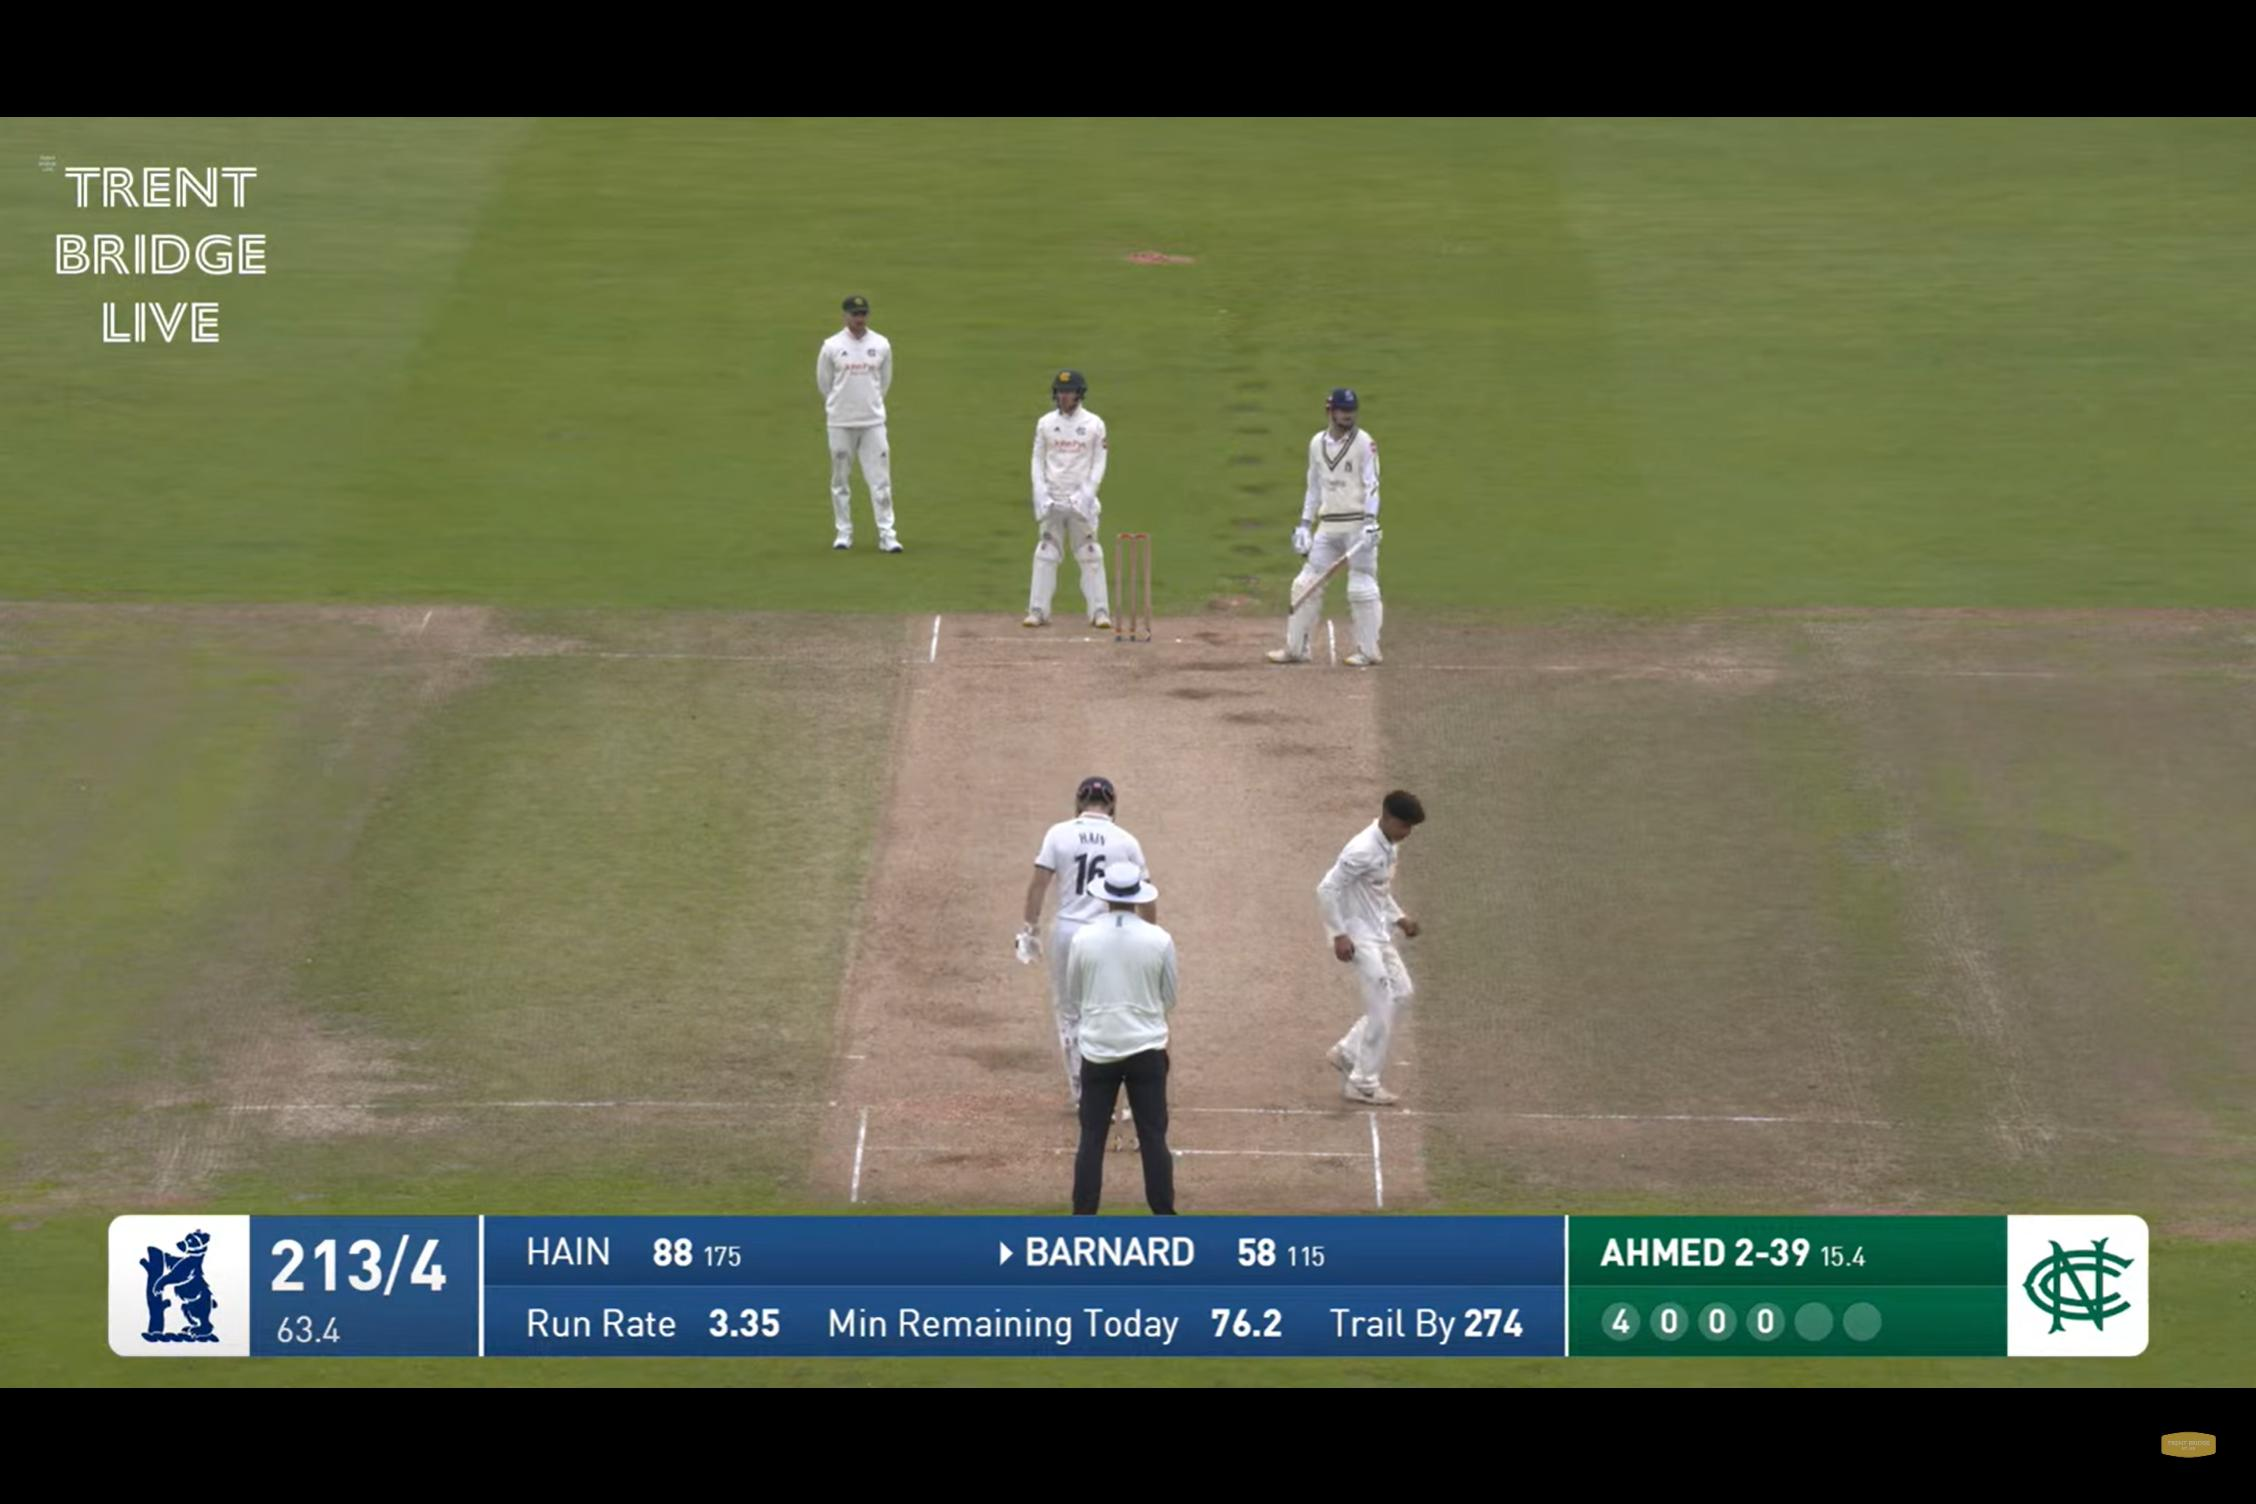batsman: (1272, 373, 1445, 670)
bowler walking back: (1291, 774, 1491, 1121)
umpire: (1057, 858, 1192, 1219)
wicket keeper: (1010, 342, 1143, 648)
